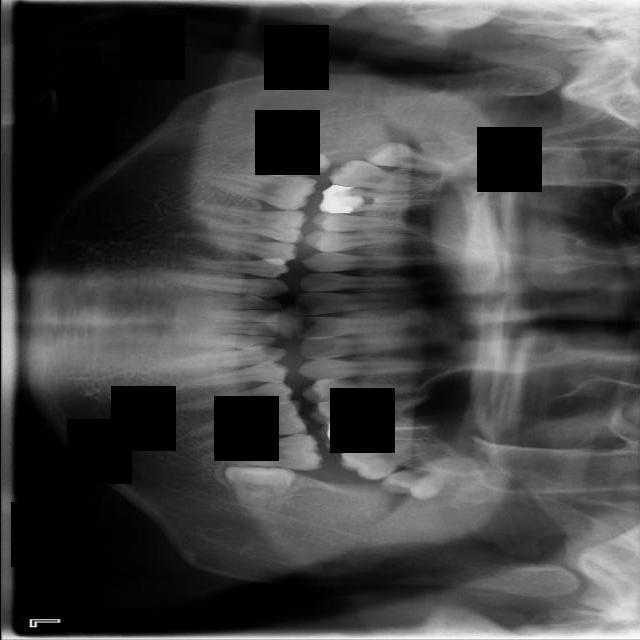3M ESPE Implant: (359, 138, 483, 178)
52: (314, 414, 372, 454), (317, 183, 363, 216)
73: (356, 187, 450, 223), (362, 420, 452, 445), (50, 610, 74, 614)
BioHorizons Implant: (335, 433, 456, 486)
BioLife Implant: (378, 444, 488, 513)
Biomet 3i Implant: (222, 464, 296, 523)
Blue Sky Bio Implant: (201, 428, 326, 472)
Caries: (327, 158, 459, 196)
Implant: (206, 170, 317, 213)
Keystone Dental Implant: (261, 129, 334, 185)
